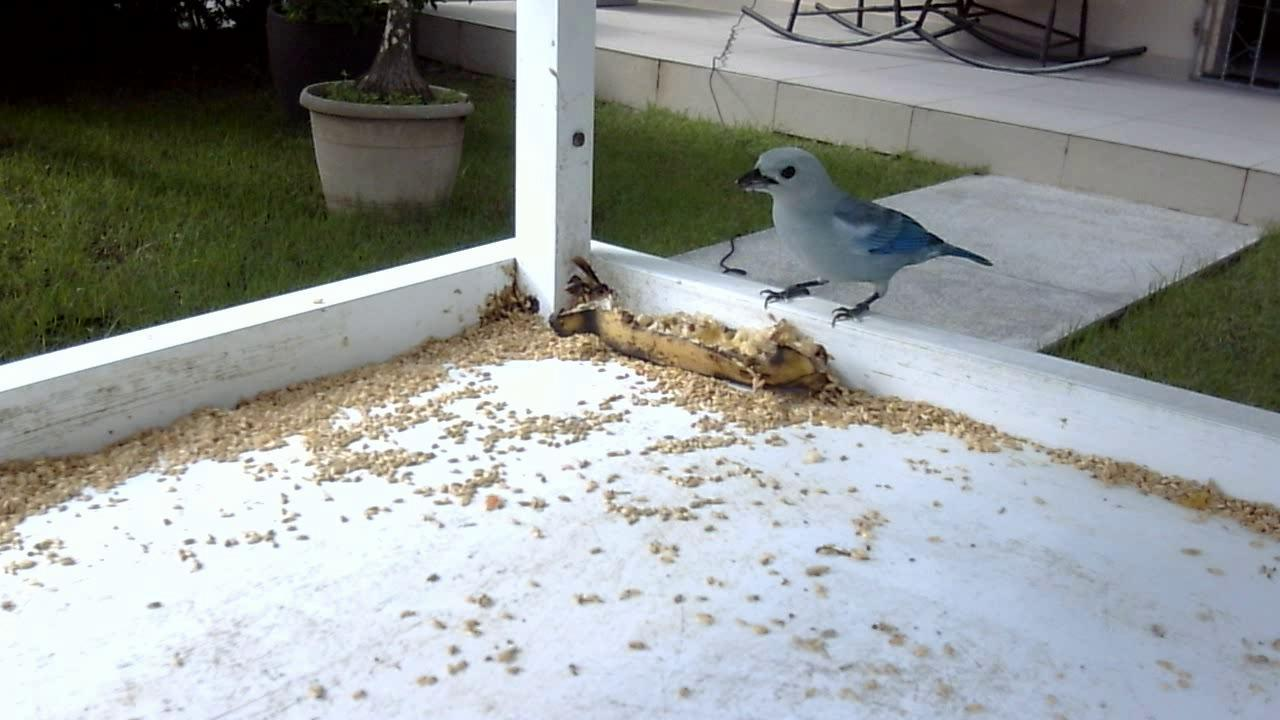sanhaco_da_amazonia: (720, 138, 1000, 343)
